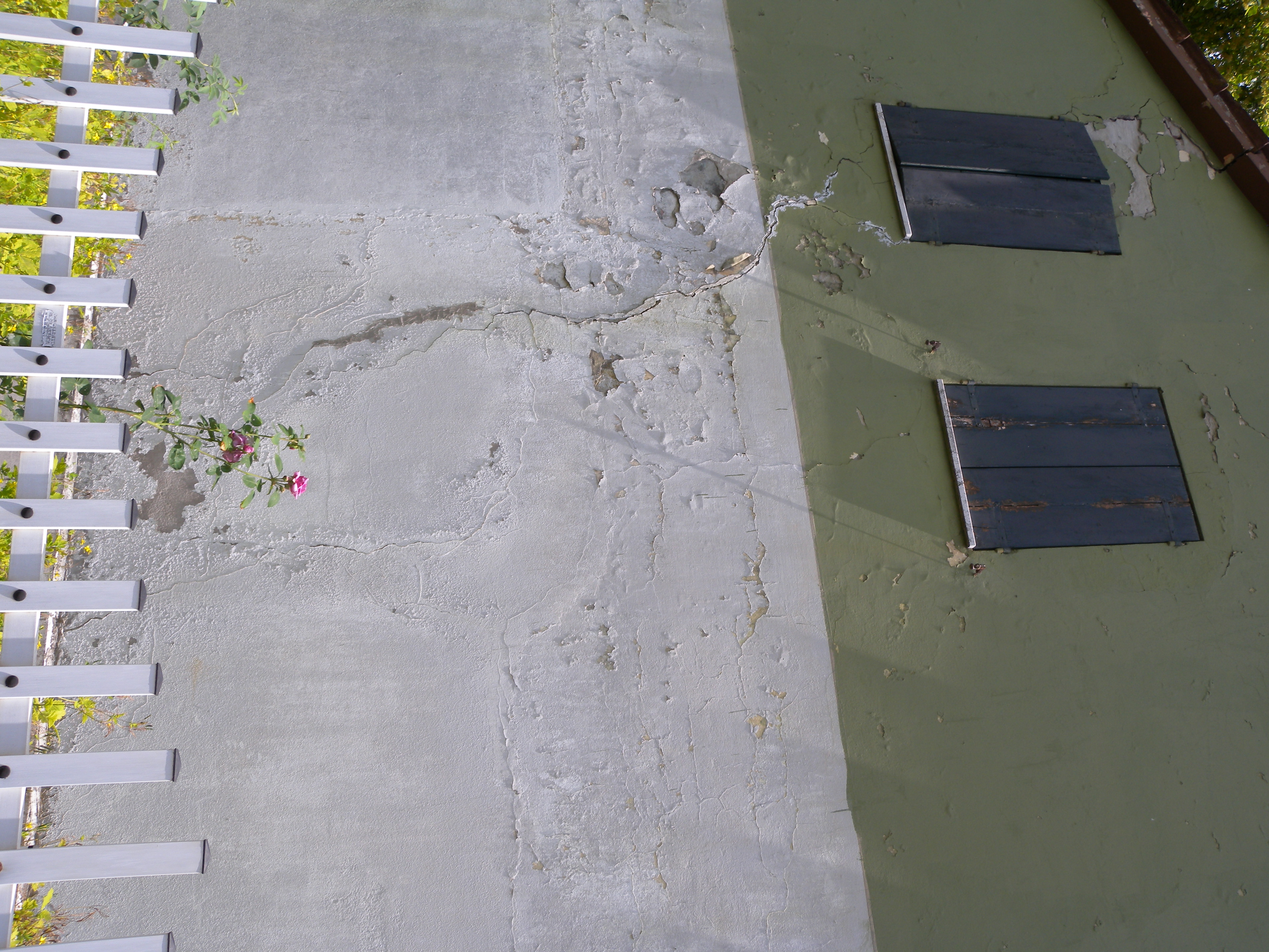Crack: (147, 75, 884, 604), (1064, 8, 1265, 580)
